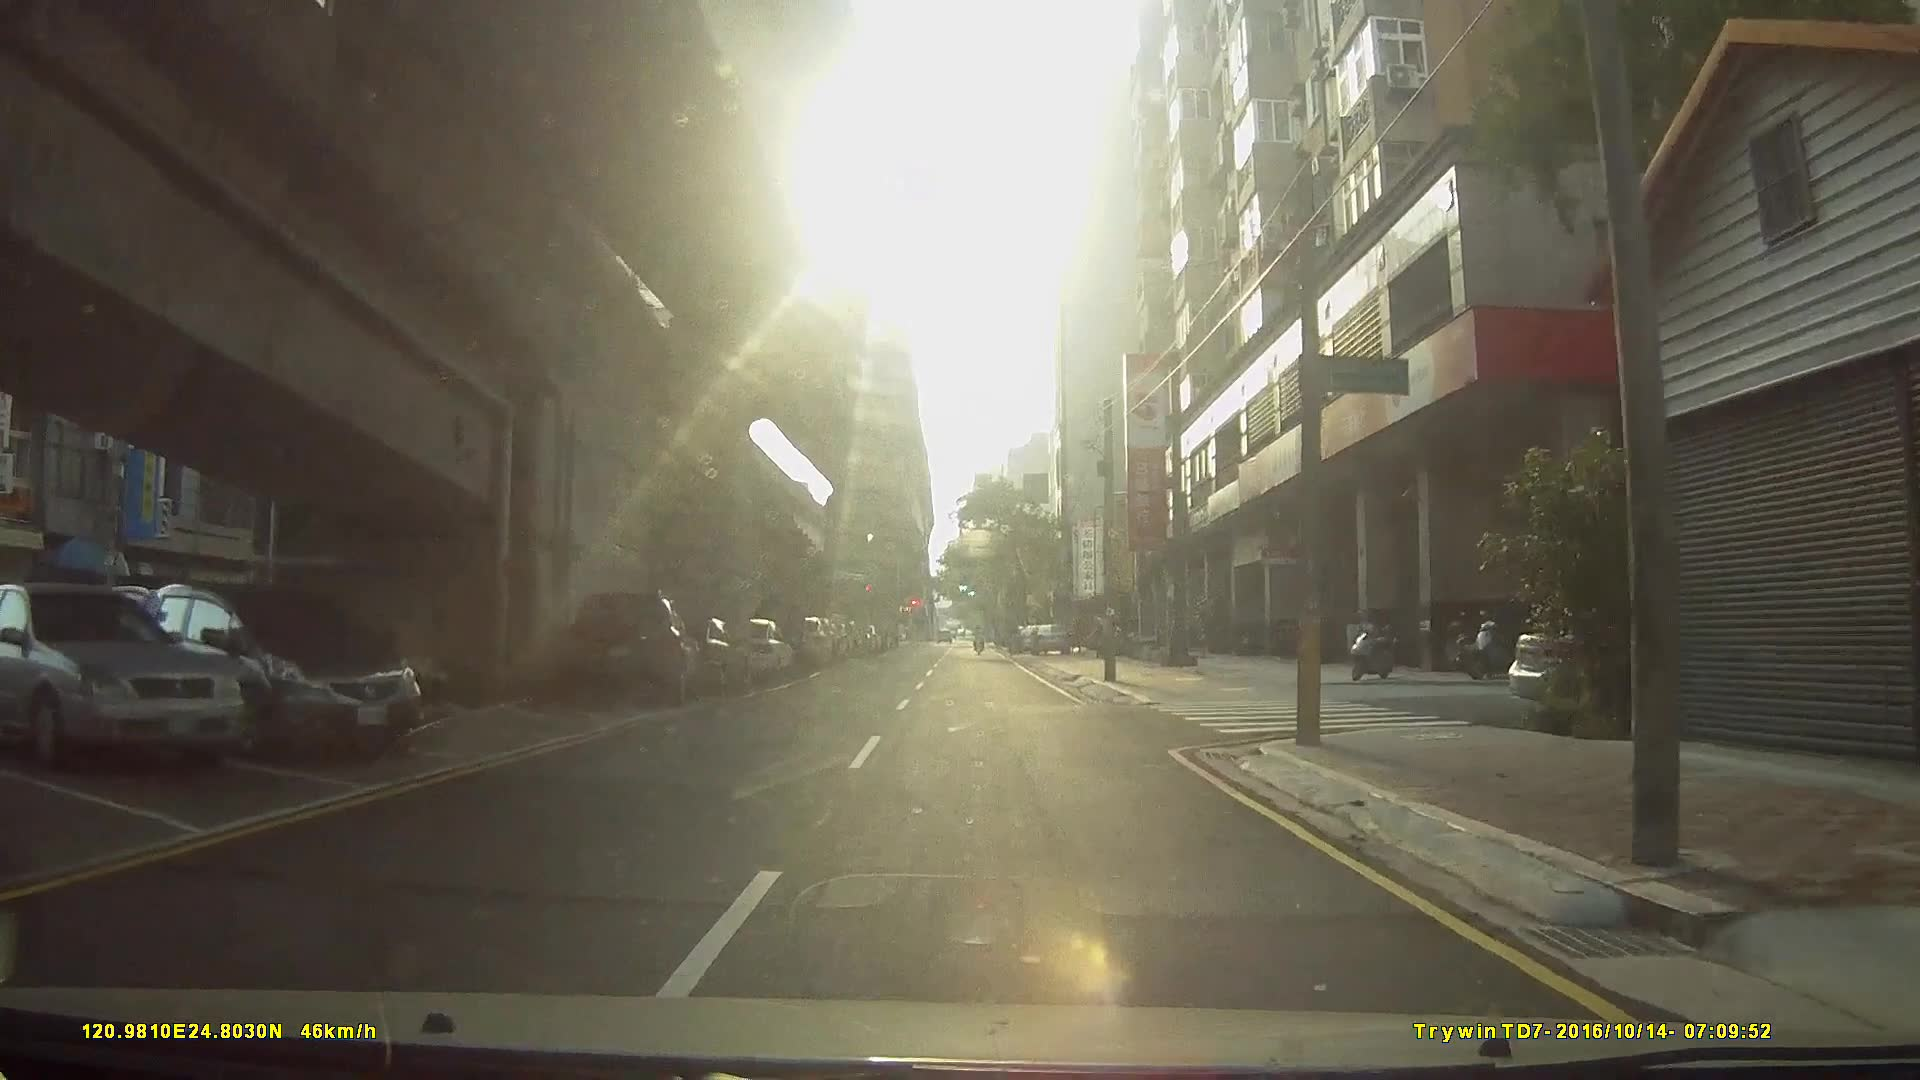vehicle: (131, 578, 422, 757), (0, 582, 243, 769), (560, 589, 704, 703), (1029, 620, 1069, 655)
